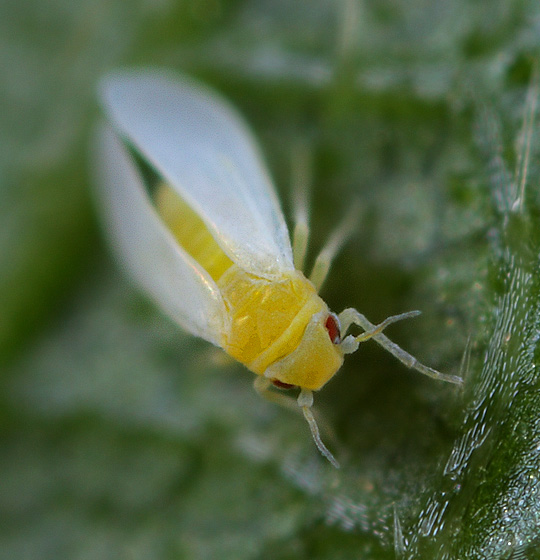Tobacco Whitefly: (63, 92, 466, 454)
